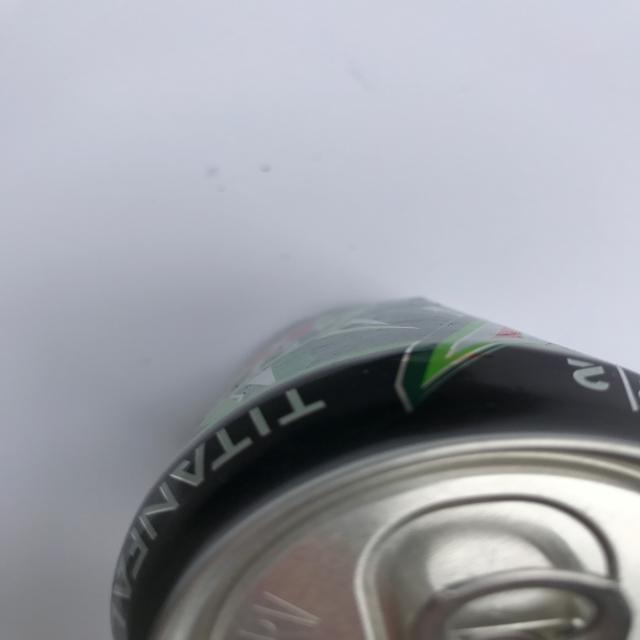metal: (109, 294, 640, 640)
